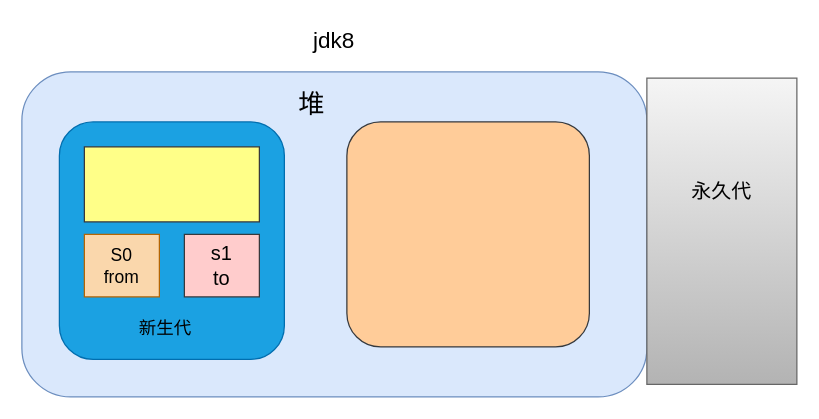
This 819x419 diagram has some shape labels left out. Each missing label, with the box of its shape:
Eden: (83, 146, 259, 222)
老年代: (346, 121, 589, 347)
